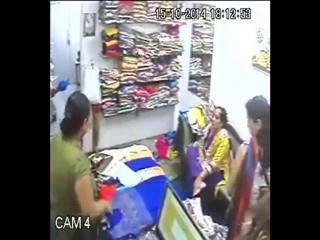Normal: (50, 90, 112, 240), (225, 96, 270, 239), (189, 106, 233, 222)
